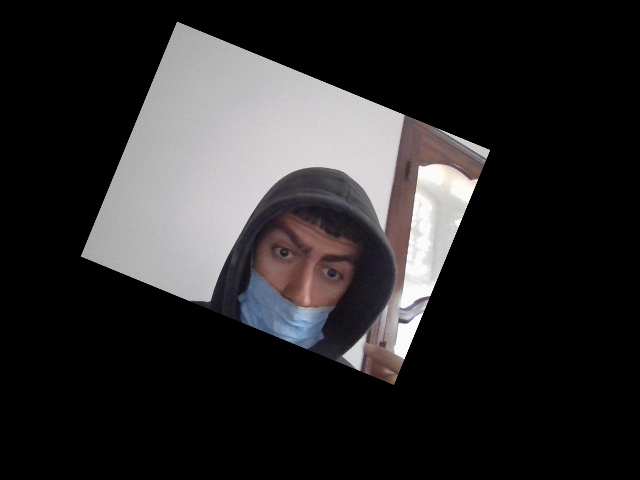mask_weared_incorrect: (224, 161, 397, 383)
